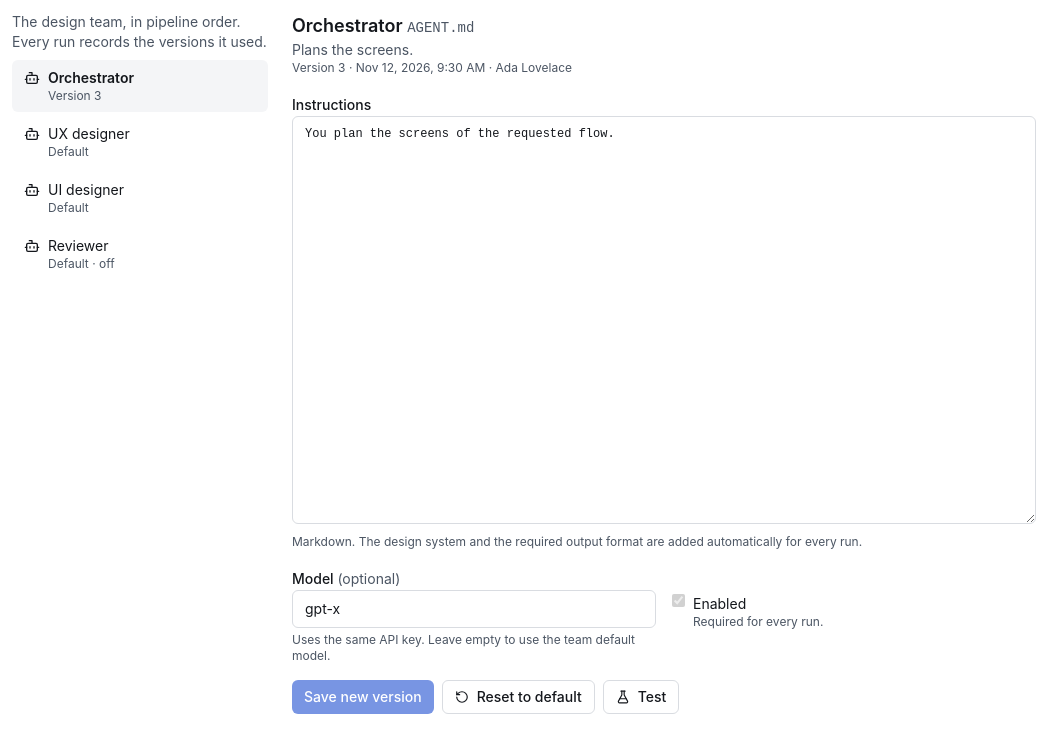
Test: AgentsPage › shows the conflict message when a restore is stale
This screenshot has width=1048, height=732.
Step 1. Click the button "Reset to default" → (518,697), box [442,680,595,714]
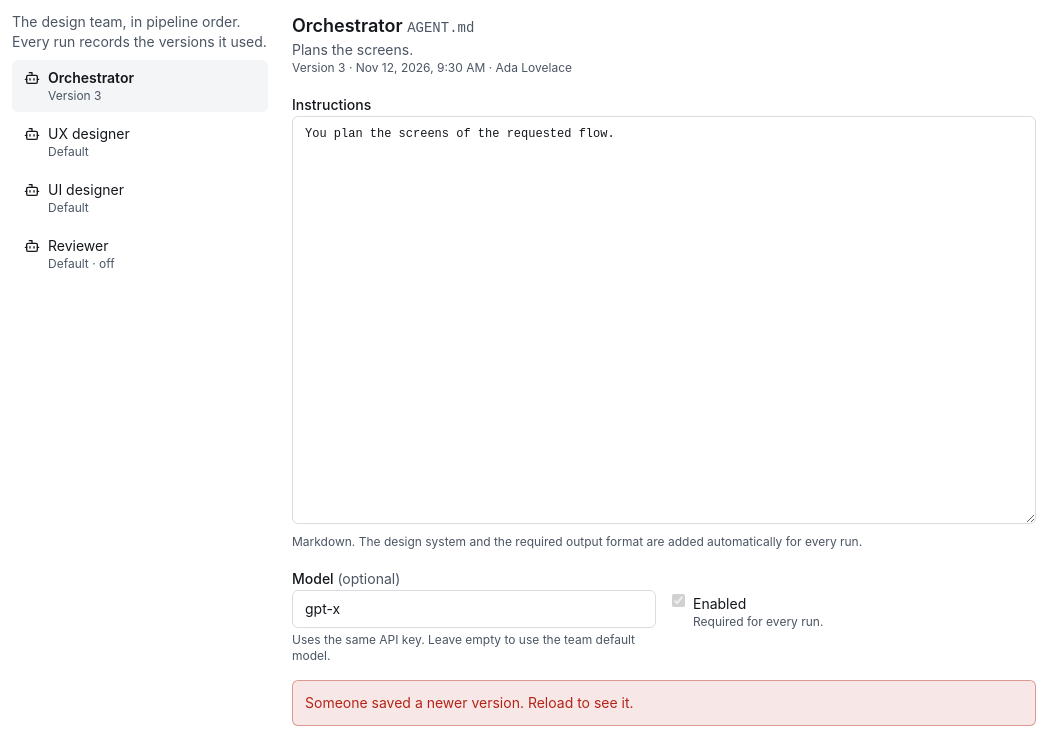
Now the message reads "Someone saved a newer version. Reload to see it.", box [305,694,634,711]
